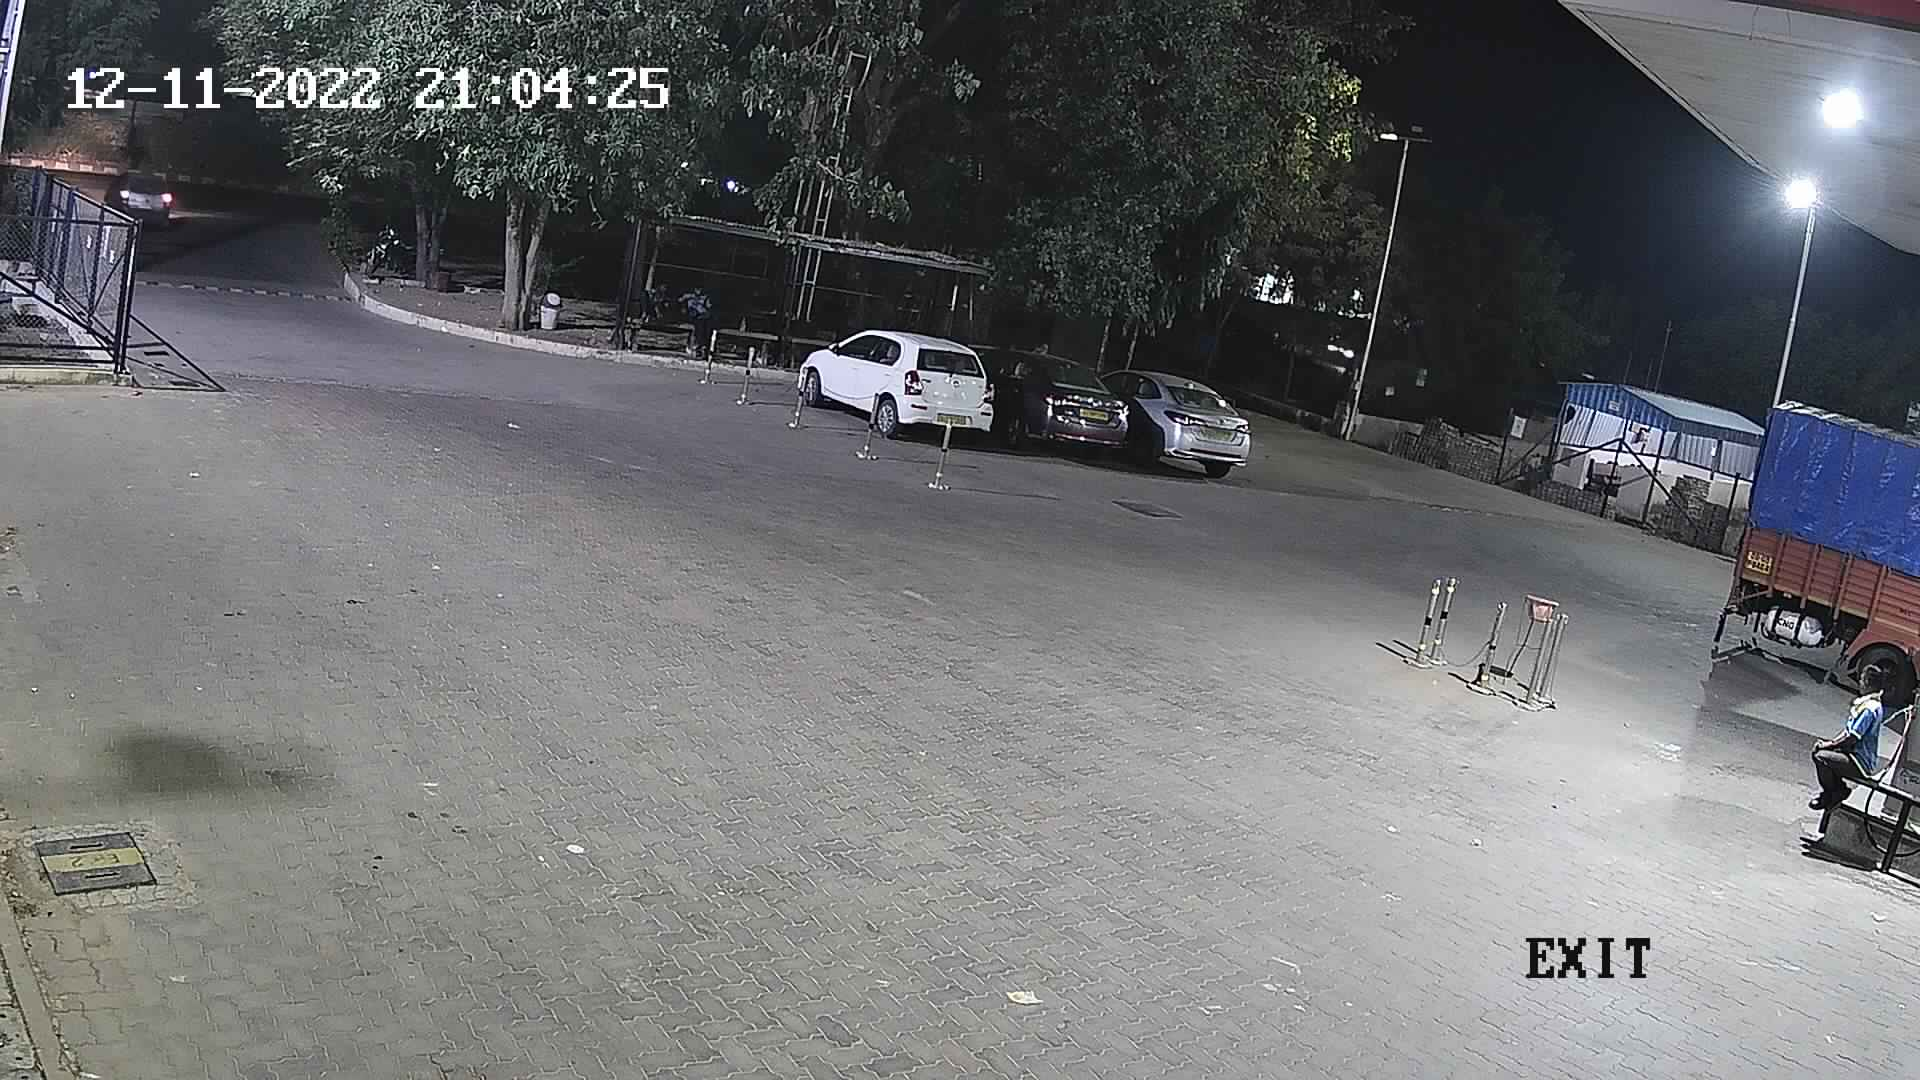Bike: (347, 206, 419, 309)
Car: (785, 313, 1015, 459), (961, 324, 1145, 469), (1093, 353, 1255, 480), (90, 138, 195, 245)
HMV: (1700, 373, 1915, 749)
Others: (1807, 657, 1896, 815)
